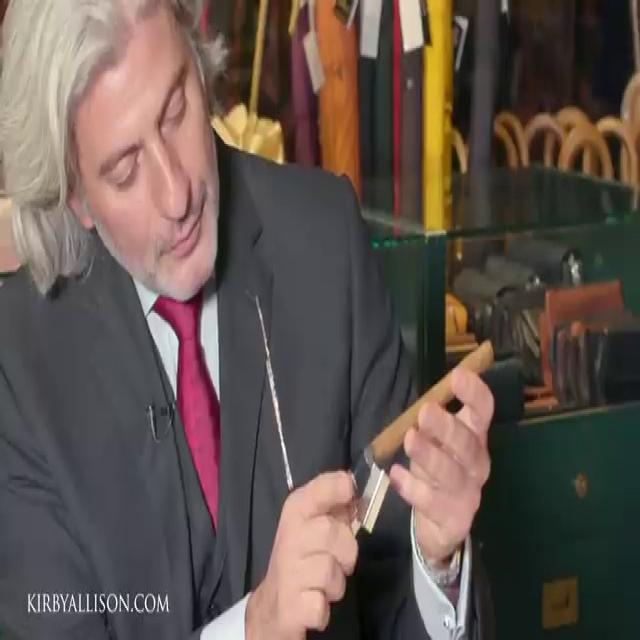Smooking: (362, 324, 505, 486)
